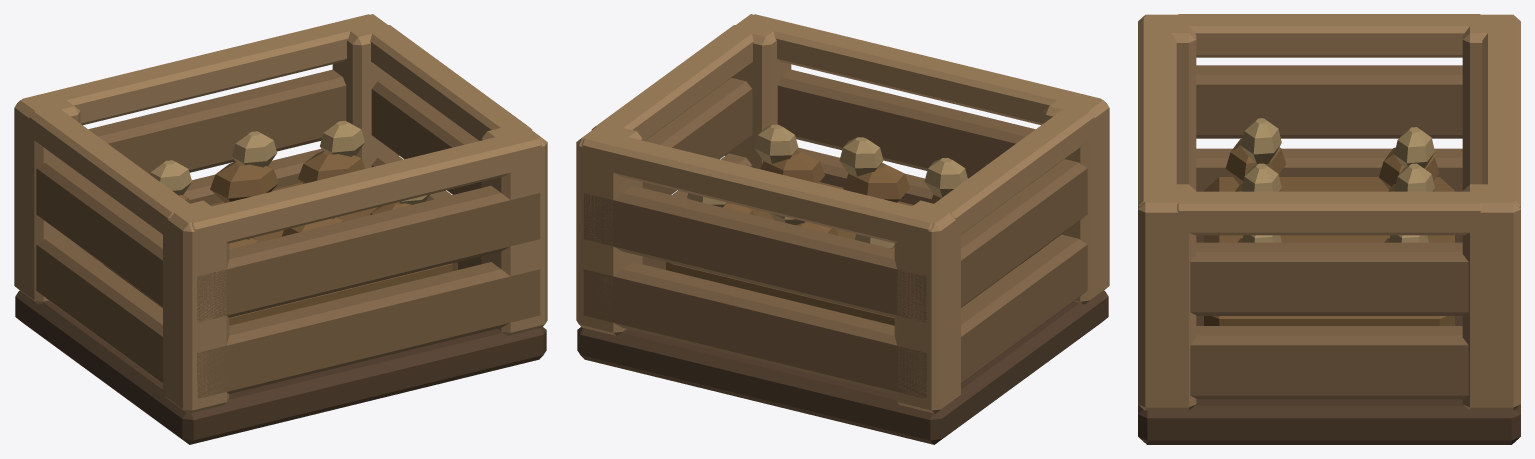
File: juniper_seed_half.glb
3 renders of one model, left to right at view 1: azimuth 30°, elevation 25°; view 2: azimuth 150°, elevation 25°; view 3: azimuth 270°, elevation 25°, orthographic. The views are drawn at different scales.
Visible parts, largest first — view 1: juniper_seed_half; view 2: juniper_seed_half; view 3: juniper_seed_half.
Part boxes in pixels (left/top/right/bottom): juniper_seed_half: left=14, top=14, right=547, bottom=444; juniper_seed_half: left=576, top=14, right=1109, bottom=444; juniper_seed_half: left=1138, top=14, right=1520, bottom=444.
Size of the model in its own units: 0.75 by 0.4375 by 0.625.
